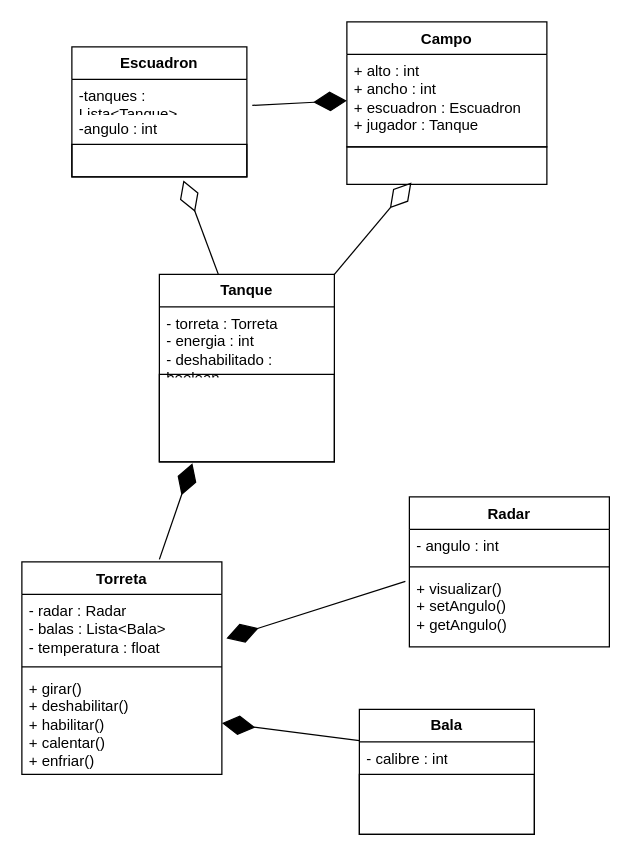
Image size: 631x860. Some labels were removed from this diagram. Here are the shapes that lost their labels. From the top down, the centre of each, then its label:
At point (159, 160): "+ circular()".
At point (246, 417): "+ disparar() + moverse() + deshabilitar() + habilitar()".
At point (446, 803): "+ getCalibre() + setCalibre()".
